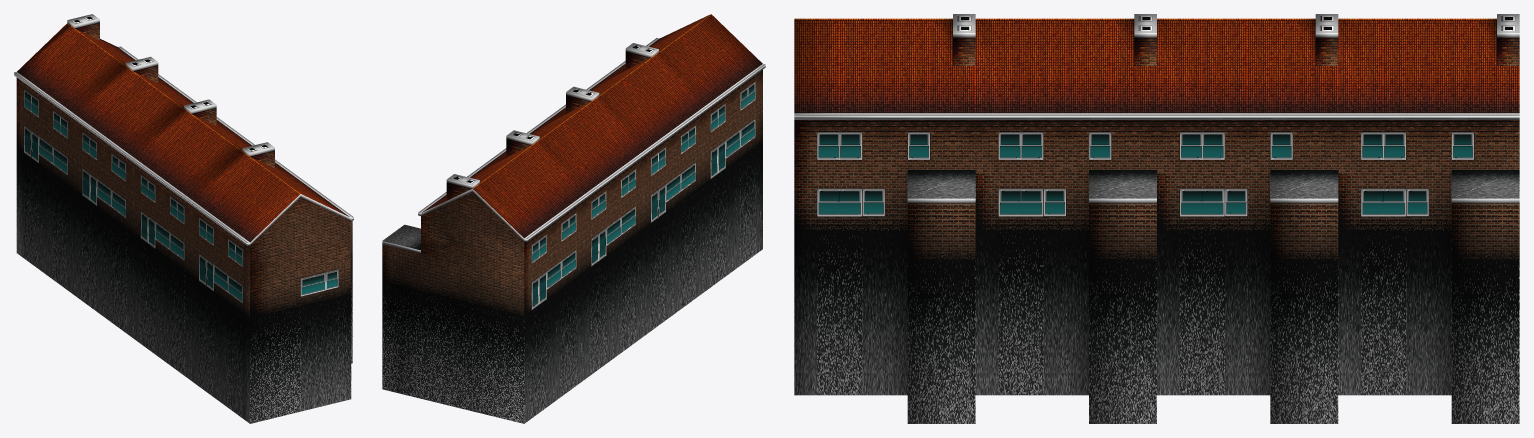
Rendered from doorzon_mod1_3a.fbx.
3 views of the same model, side by side, from view 1: azimuth 30°, elevation 25°; view 2: azimuth 150°, elevation 25°; view 3: azimuth 270°, elevation 25° (orthographic). The views are drawn at different scales.
Visible parts, largest first — view 1: doorzon_mod1_3a; view 2: doorzon_mod1_3a; view 3: doorzon_mod1_3a.
Part boxes in pixels (x1,y1,x2,y2): doorzon_mod1_3a: (14,14,353,423); doorzon_mod1_3a: (382,14,765,423); doorzon_mod1_3a: (794,14,1519,423).
Bounding box in the file's own units: 1262 × 1879 × 3600.
